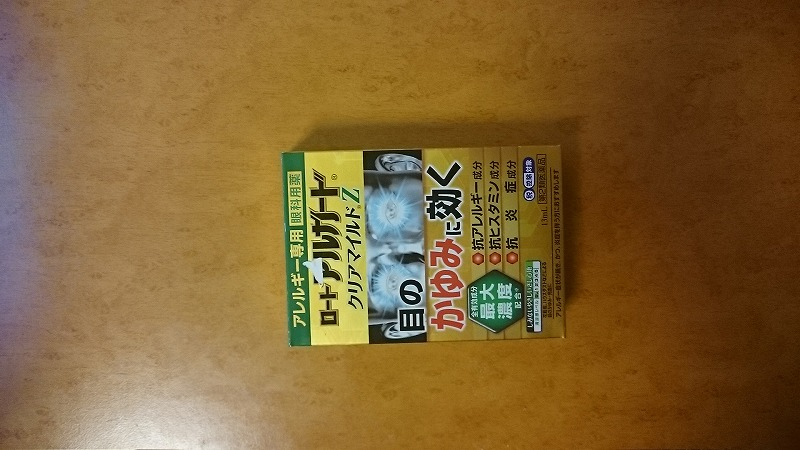C: (271, 143, 590, 352)
